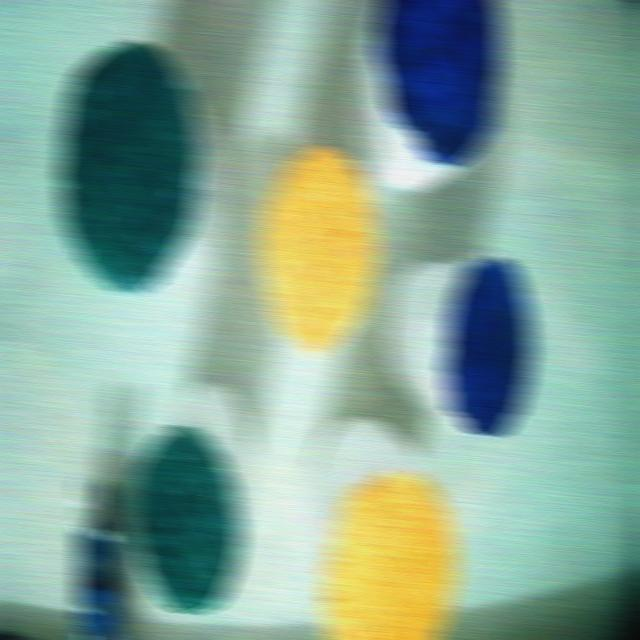blue: (376, 0, 501, 164), (441, 258, 532, 435)
green: (58, 42, 201, 289), (129, 425, 243, 615)
yellow: (258, 146, 379, 352), (319, 471, 458, 639)
